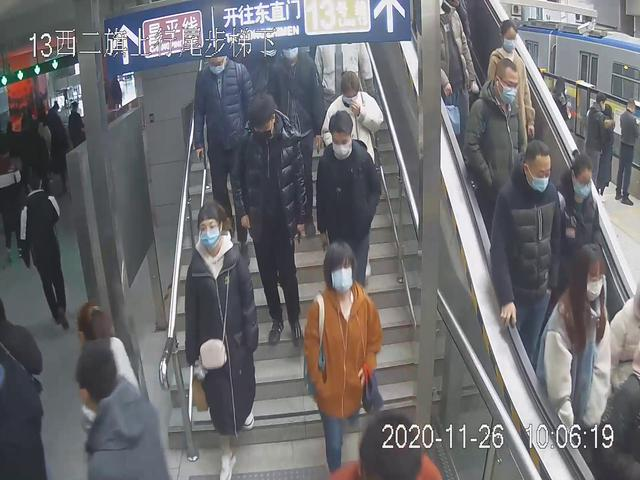person: (182, 194, 267, 480), (225, 87, 309, 355), (300, 238, 388, 480), (537, 242, 615, 474), (489, 139, 563, 378), (190, 36, 260, 271), (458, 53, 530, 247), (315, 110, 385, 304)
